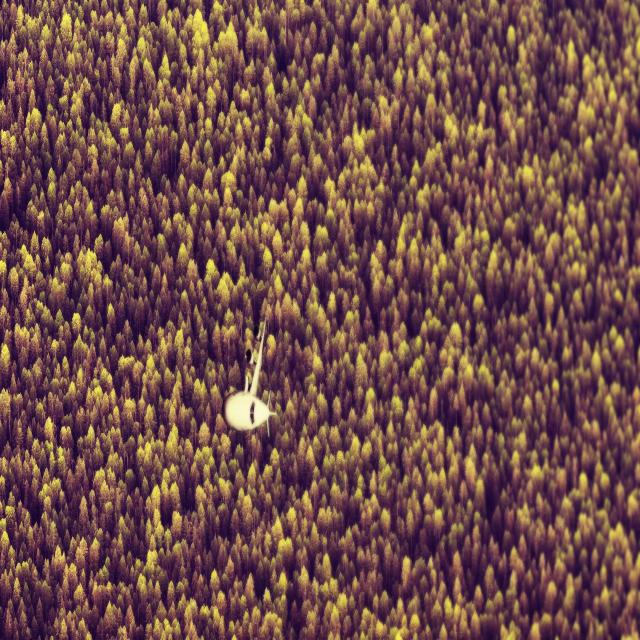airplane: (221, 316, 277, 438)
